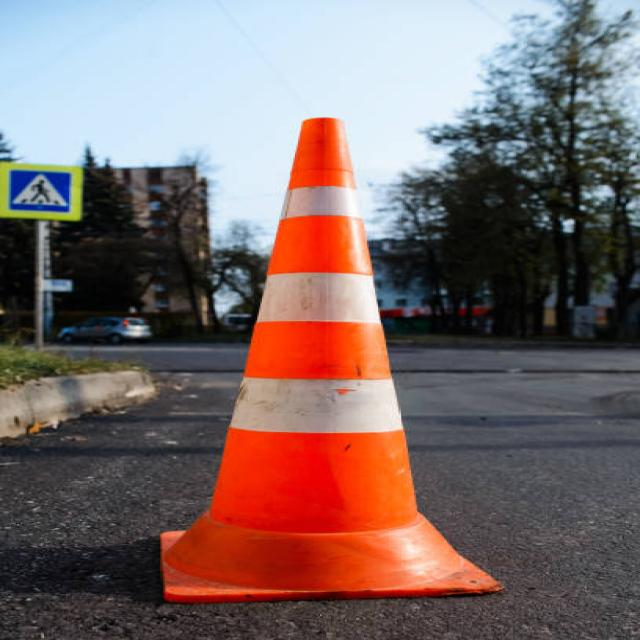Traffic Cone: (107, 105, 520, 608)
